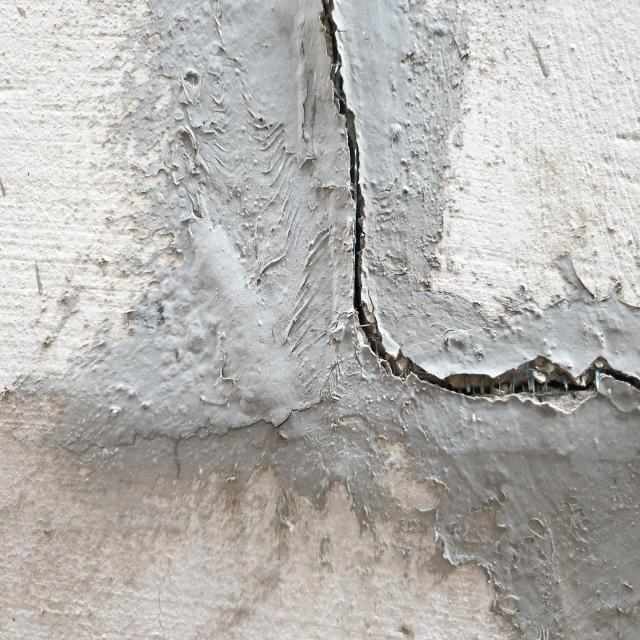SurfaceCrack: (274, 2, 636, 451)
